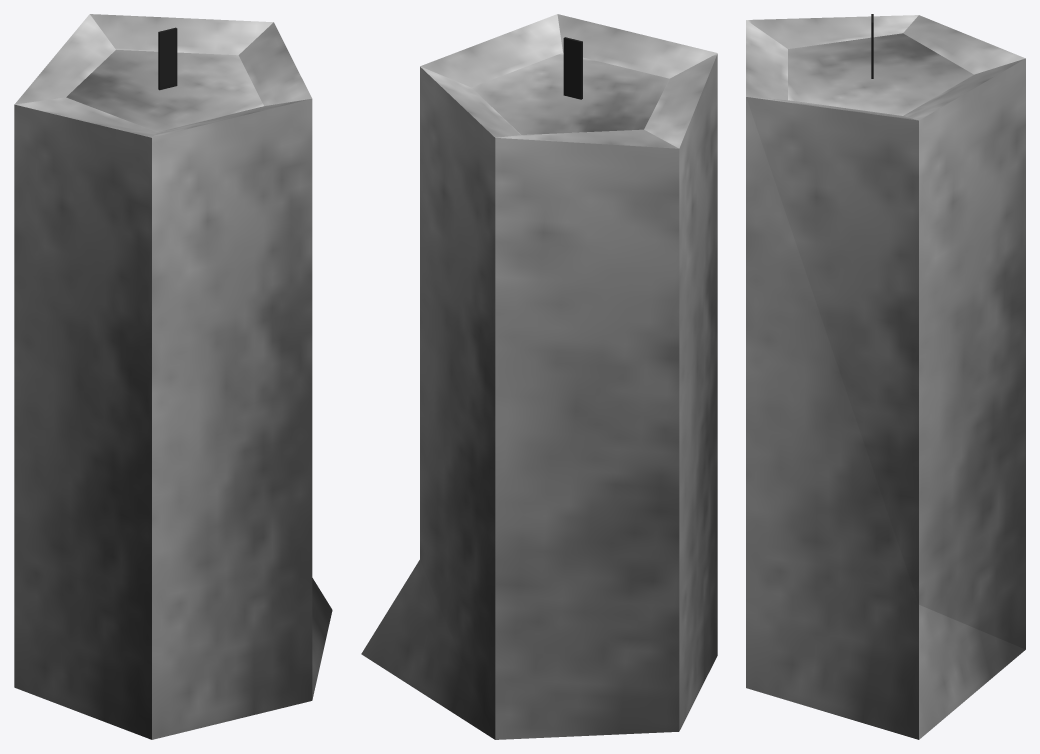
Rendered from candle_unlit.gltf.
3 views of the same model, side by side, from view 1: azimuth 30°, elevation 25°; view 2: azimuth 150°, elevation 25°; view 3: azimuth 270°, elevation 25° (orthographic).
Visible parts, largest first — view 1: candle_unlit0; view 2: candle_unlit0; view 3: candle_unlit0.
Boxes of the visible parts, x1,y1,x2,y2 form: candle_unlit0: (14,14,332,739); candle_unlit0: (361,14,717,739); candle_unlit0: (746,14,1025,739).
Bounding box in the file's own units: 0.0467 × 0.0901 × 0.0362.
1 material, 1 textured.
